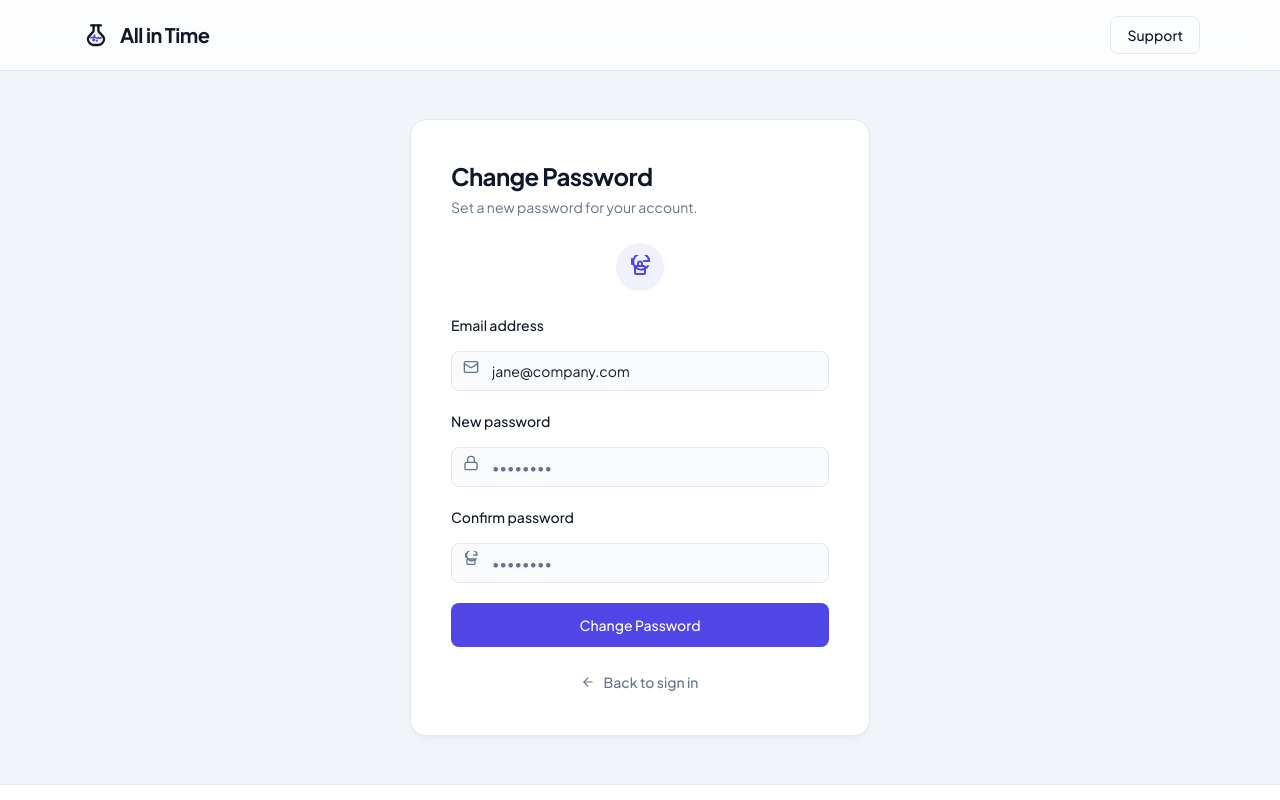
ResetPasswordPage › shows an error message and does not redirect when the request fails
In the password field labelled "New password": [640, 467] box [451, 447, 829, 487], type "new-password"
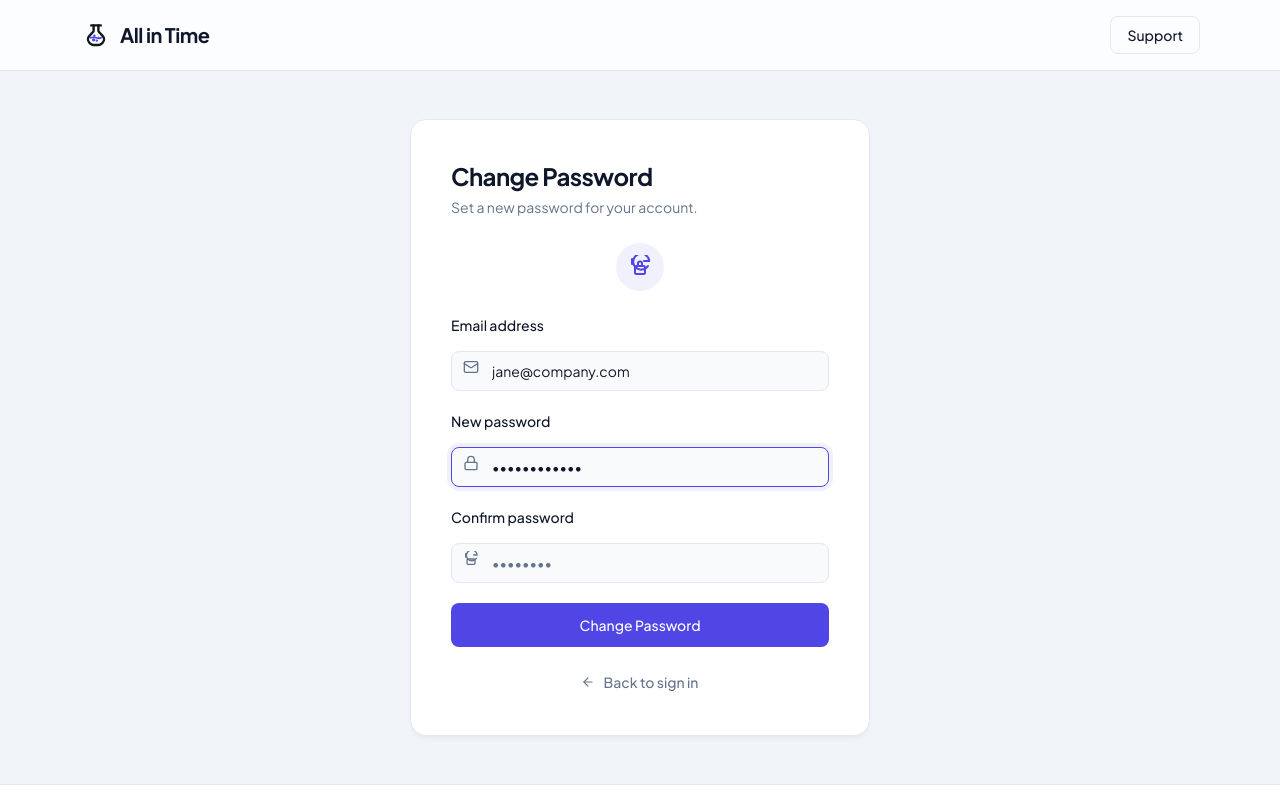
In the password field labelled "Confirm password": [640, 563] box [451, 543, 829, 583], type "new-password"
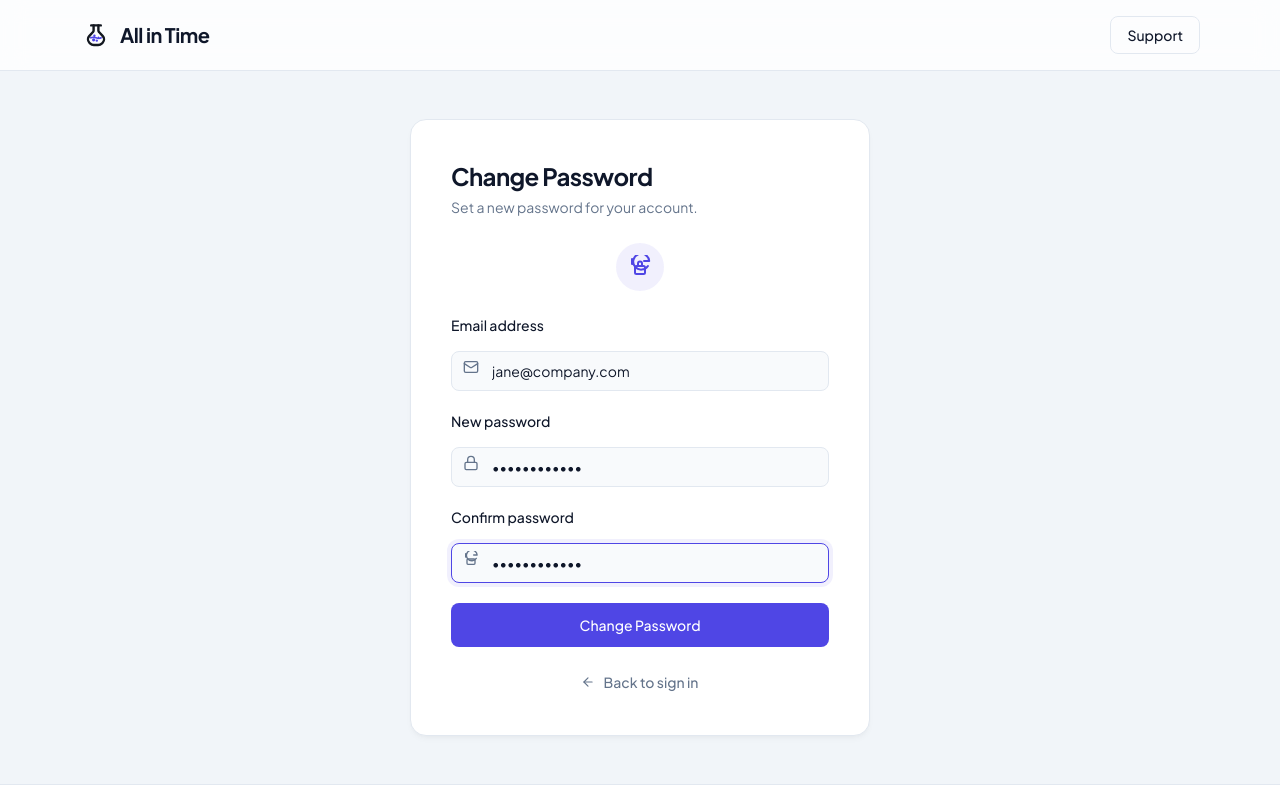
Click the button "Change Password": [640, 625] box [451, 603, 829, 647]
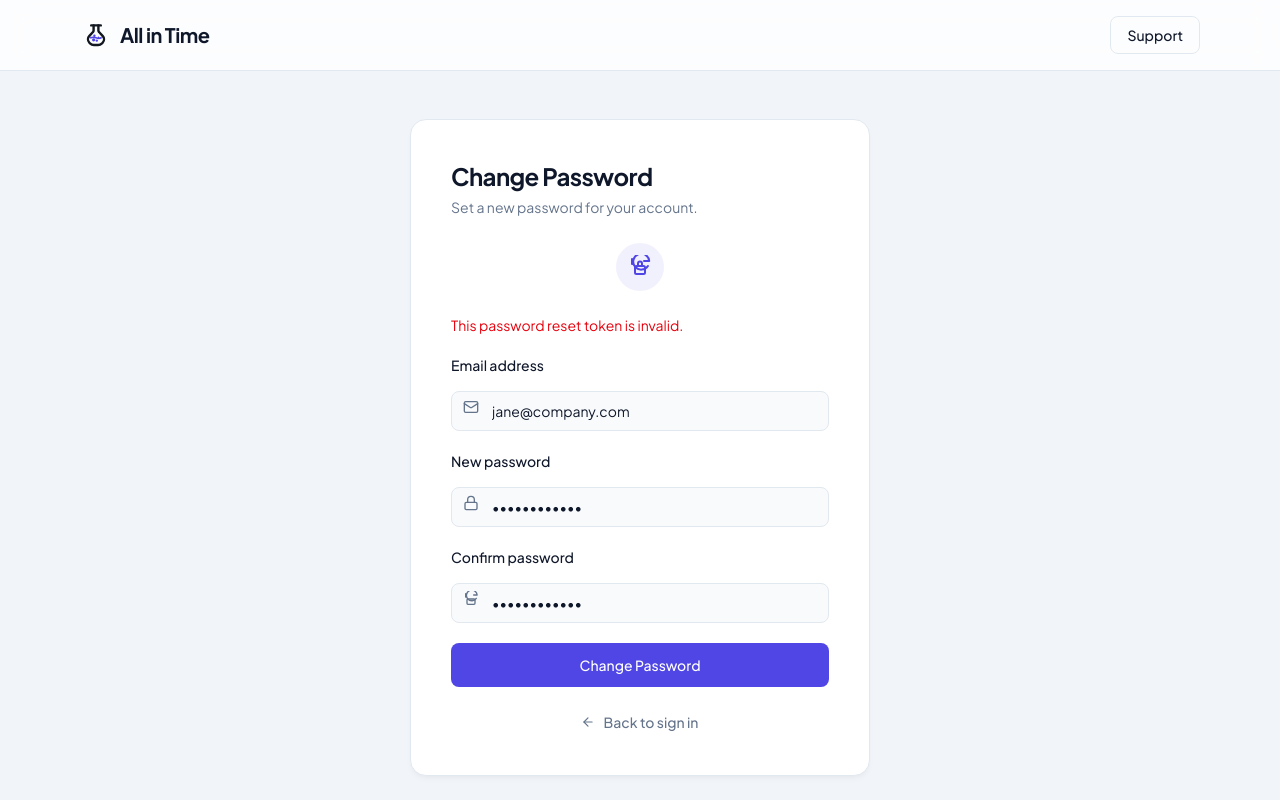
Check: the text "This password reset token is invalid." is shown, box [451, 316, 683, 334]
